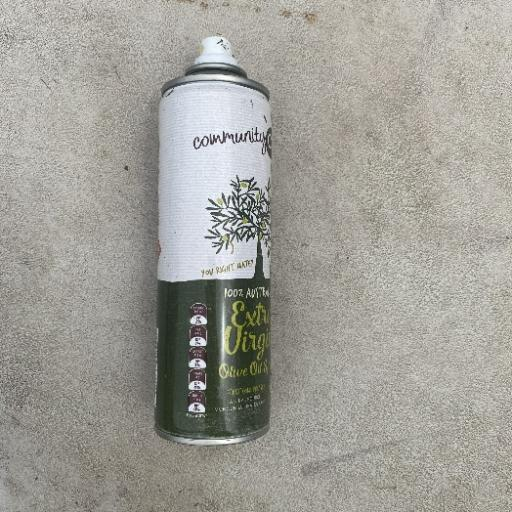Metal: (152, 34, 274, 447)
